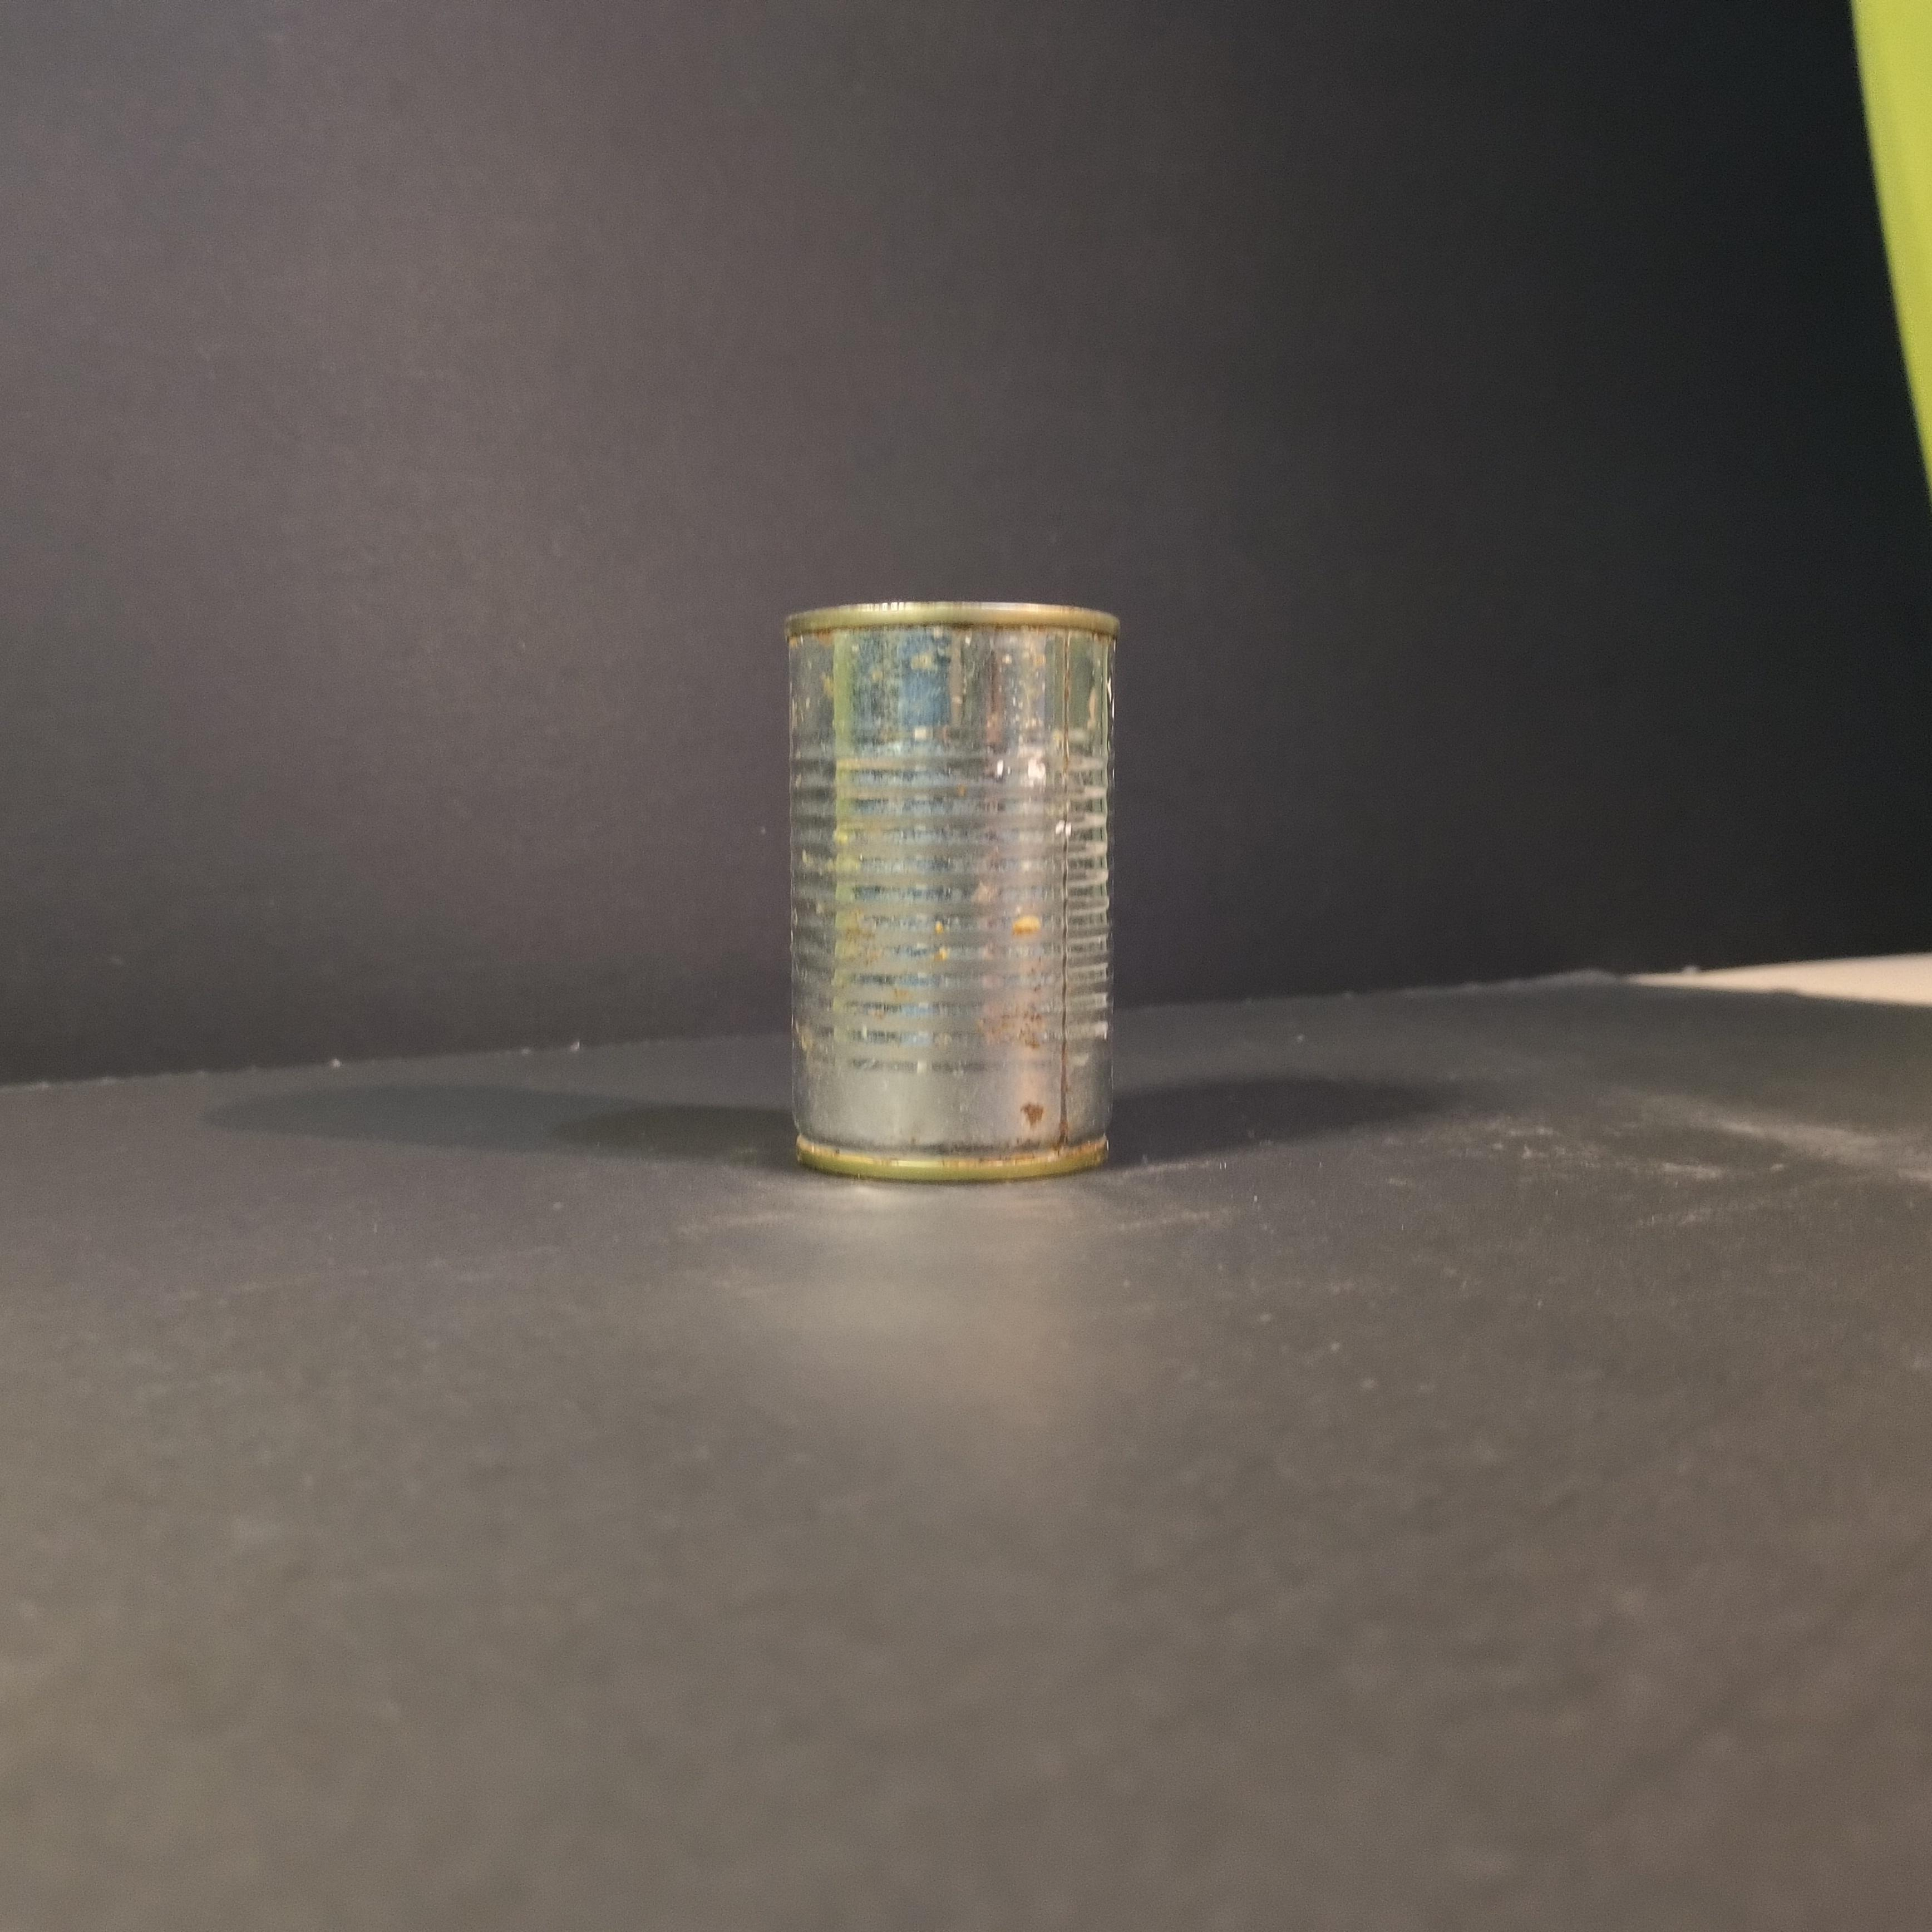Rusted: (773, 573, 1143, 1207)
